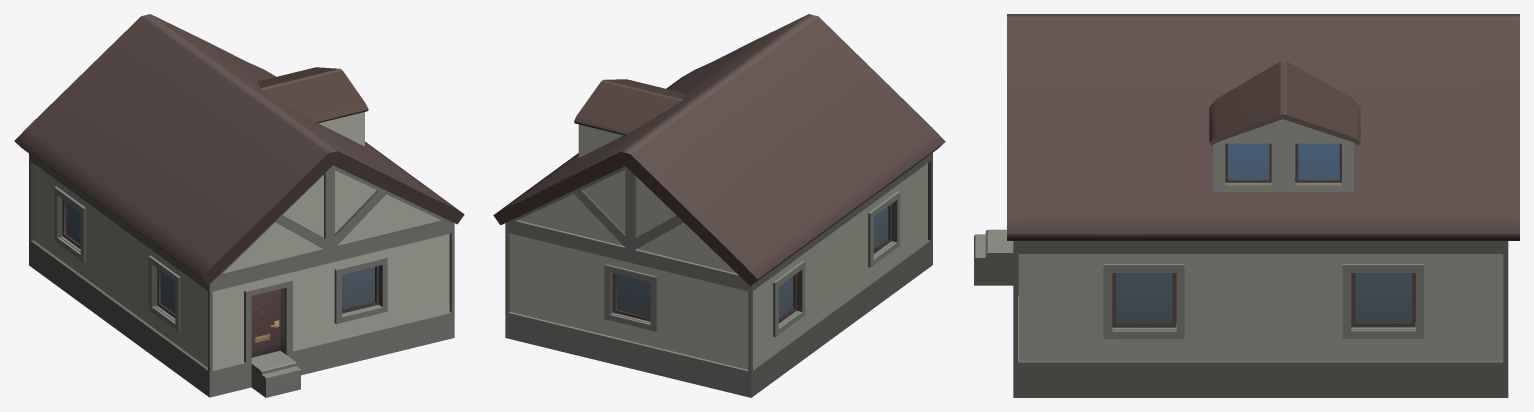
File: Residential_FamilyHome_alt04.glb
The picture shows the model from 3 angles, left to right: view 1: azimuth 30°, elevation 25°; view 2: azimuth 150°, elevation 25°; view 3: azimuth 270°, elevation 25°; orthographic projection. The views are drawn at different scales.
Parts seen in each view (by area): view 1: base.116, windowRefl.087; view 2: base.116, windowRefl.087; view 3: base.116, windowRefl.087.
Part boxes in pixels (left/top/right/bottom): base.116: left=14, top=14, right=464, bottom=397; windowRefl.087: left=66, top=202, right=374, bottom=313; base.116: left=493, top=14, right=945, bottom=397; windowRefl.087: left=616, top=207, right=888, bottom=318; base.116: left=974, top=14, right=1519, bottom=397; windowRefl.087: left=1116, top=143, right=1411, bottom=322.
Size of the model in its own units: 9.62 by 7.6 by 12.62.
